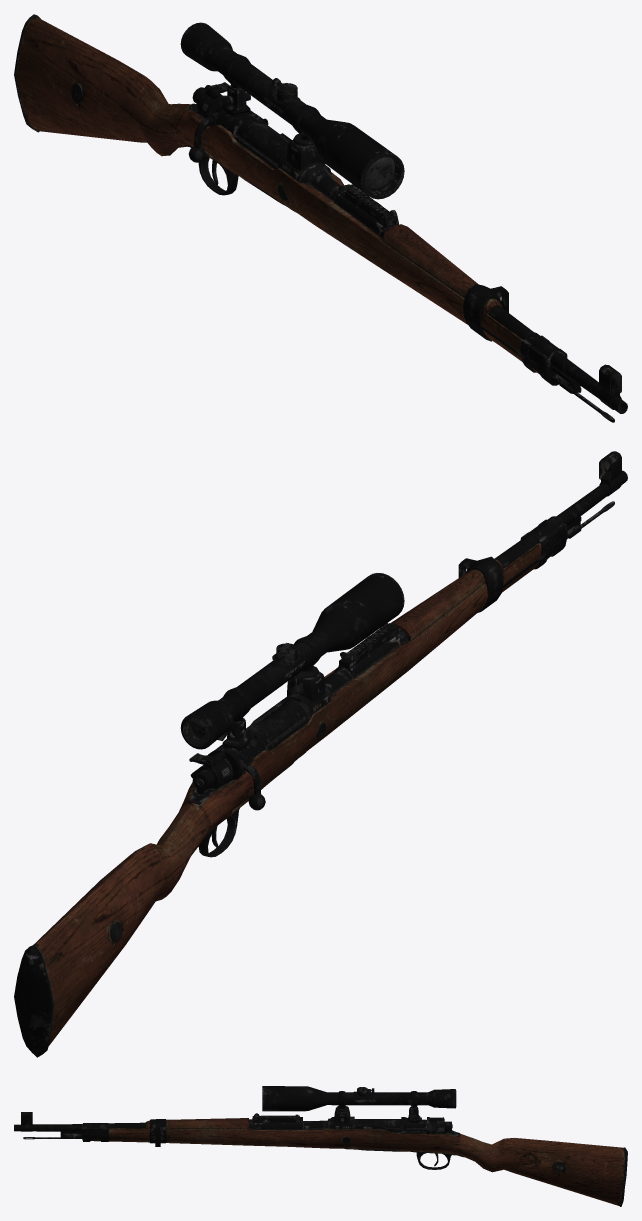
File: Mauser_98K.fbx
3 renders of one model, top to bottom at view 1: azimuth 30°, elevation 25°; view 2: azimuth 150°, elevation 25°; view 3: azimuth 270°, elevation 25°, orthographic. The views are drawn at different scales.
Parts seen in each view (by area): view 1: Mauser_98K; view 2: Mauser_98K; view 3: Mauser_98K.
Boxes of the visible parts, <box> form: Mauser_98K: <box>14,14,627,422</box>; Mauser_98K: <box>14,451,627,1057</box>; Mauser_98K: <box>14,1086,627,1206</box>.
Bounding box in the file's own units: 6.53 × 23.95 × 111.
Materials: 1 (1 with a texture image).
